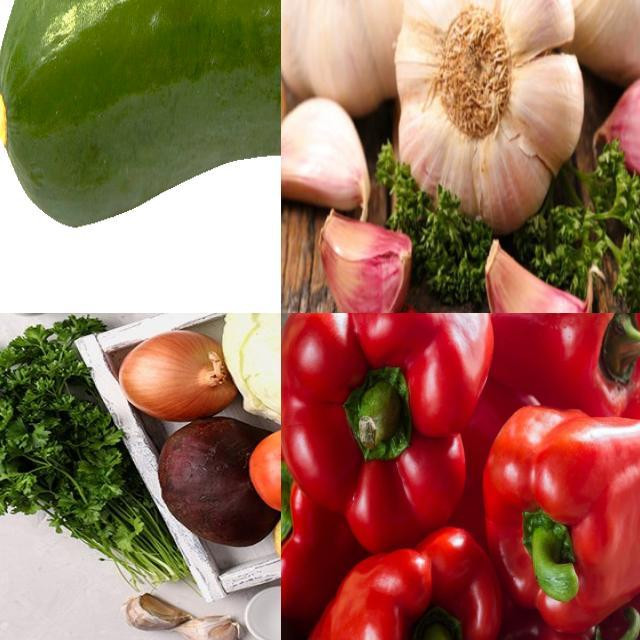beet: (155, 421, 273, 548)
bell_pepper: (282, 314, 496, 545), (484, 403, 640, 624), (301, 529, 496, 640), (501, 314, 640, 435)
cabbage: (233, 314, 282, 418)
cucumber: (1, 1, 282, 241)
garlic: (396, 1, 579, 230), (282, 1, 451, 119), (282, 97, 370, 226), (316, 211, 411, 314), (488, 246, 598, 314), (597, 78, 640, 216)
onion: (114, 335, 244, 422)
tomato: (248, 426, 282, 510)
